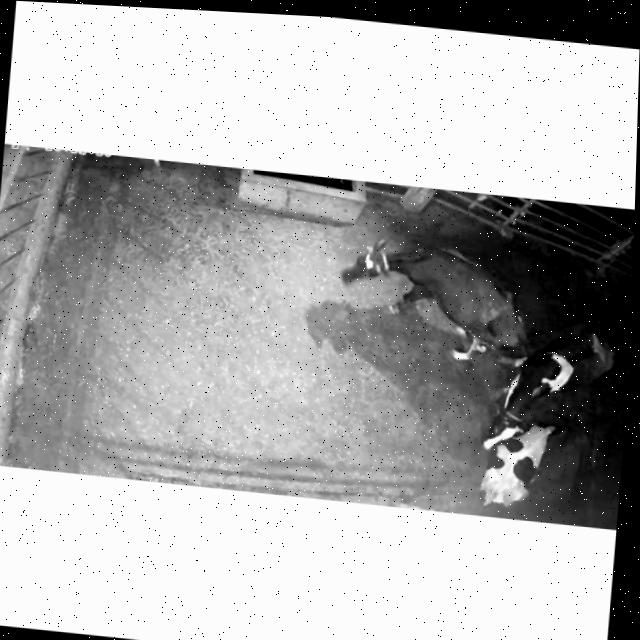stand: (330, 227, 541, 374), (479, 311, 611, 461)
